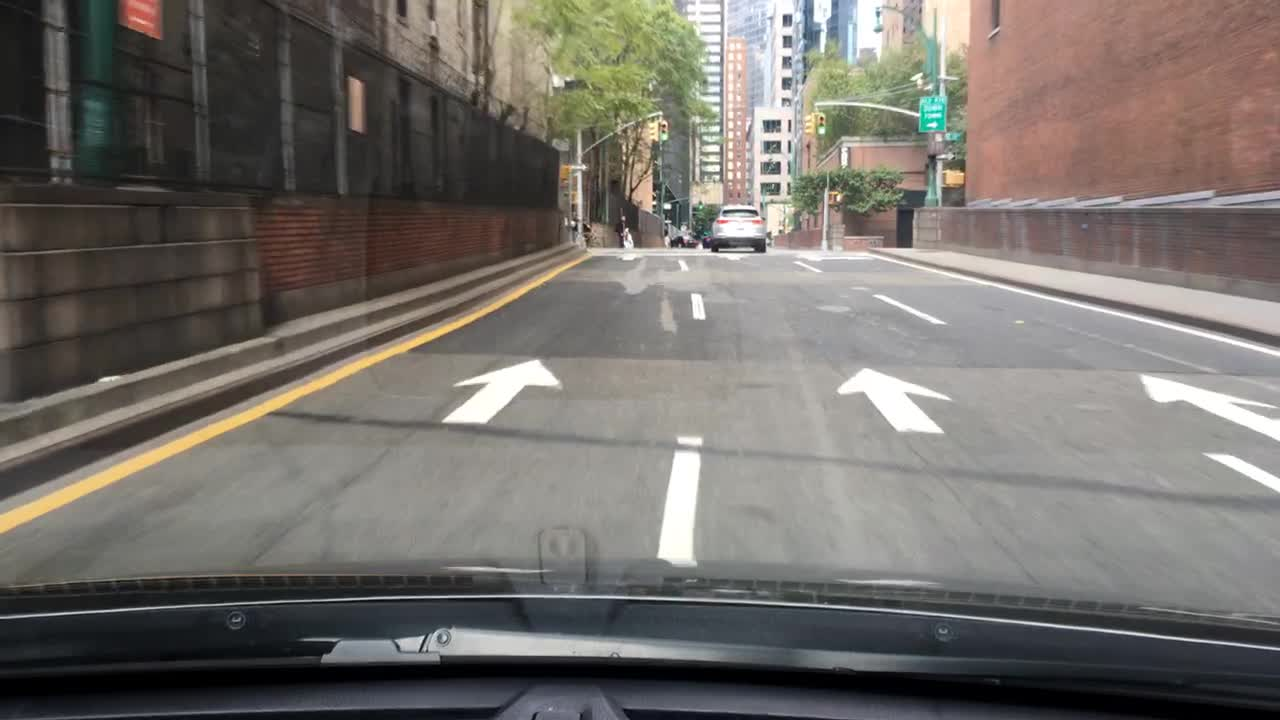car: (711, 203, 768, 249), (675, 230, 695, 246)
person: (613, 212, 632, 250)
traffic light: (939, 169, 965, 190), (658, 118, 669, 143), (804, 112, 813, 134), (828, 190, 842, 204), (817, 112, 825, 135), (647, 120, 655, 138), (696, 198, 704, 210)
traffic sign: (920, 97, 945, 132), (942, 132, 963, 143), (933, 147, 954, 157), (566, 163, 589, 170)
